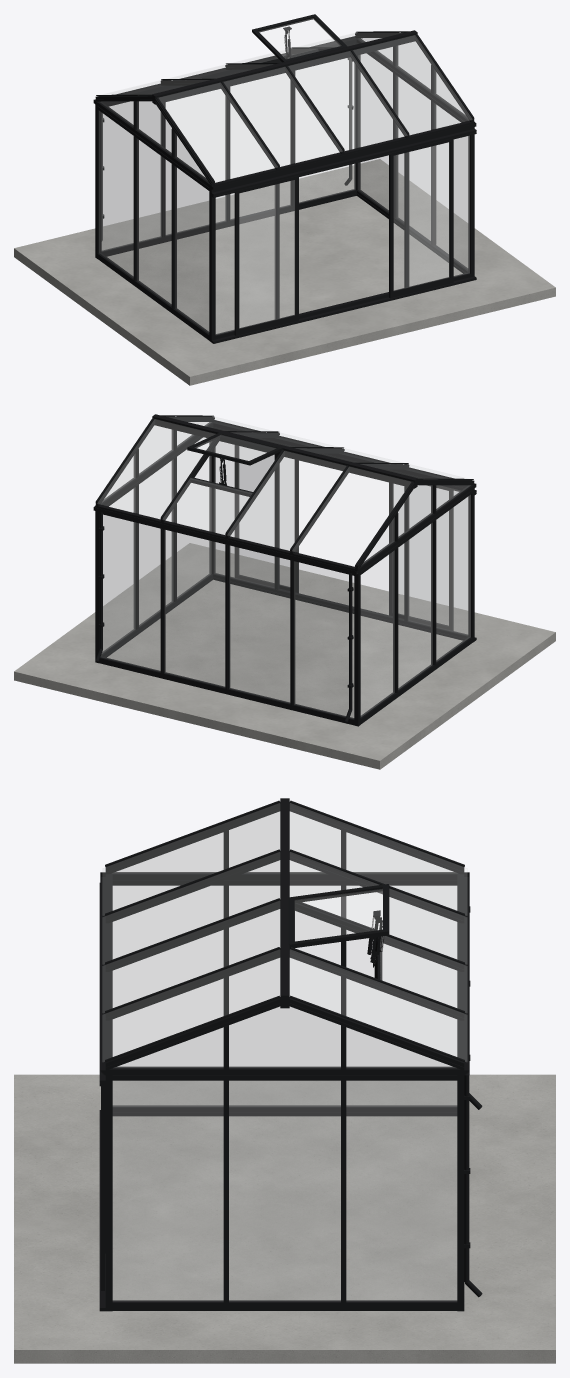
Rendered from sg-rect-7-9-10-2.glb.
The picture shows the model from 3 angles, top to bottom: view 1: azimuth 30°, elevation 25°; view 2: azimuth 150°, elevation 25°; view 3: azimuth 270°, elevation 25°; orthographic projection. The views are drawn at different scales.
Visible parts, largest first — view 1: scandiglas-rect-7-9-10-2; view 2: scandiglas-rect-7-9-10-2; view 3: scandiglas-rect-7-9-10-2.
Boxes of the visible parts, <box> form: scandiglas-rect-7-9-10-2: <box>14,14,555,385</box>; scandiglas-rect-7-9-10-2: <box>14,414,555,769</box>; scandiglas-rect-7-9-10-2: <box>14,798,555,1363</box>.
Bounding box in the file's own units: 4.38 × 2.54 × 3.64.
Materials: 5 (1 with a texture image).
